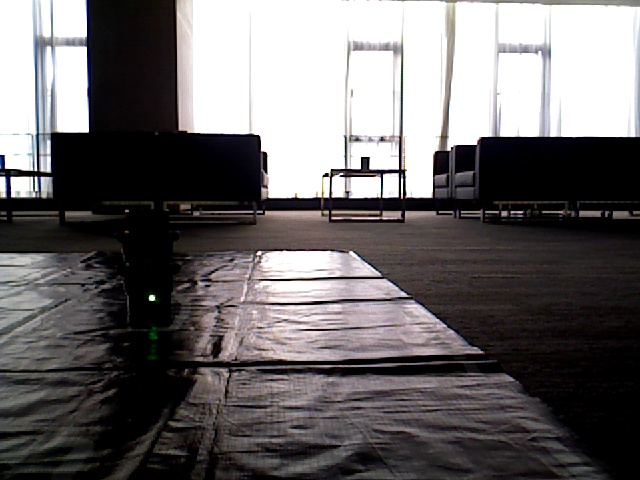green: (137, 210, 172, 307)
